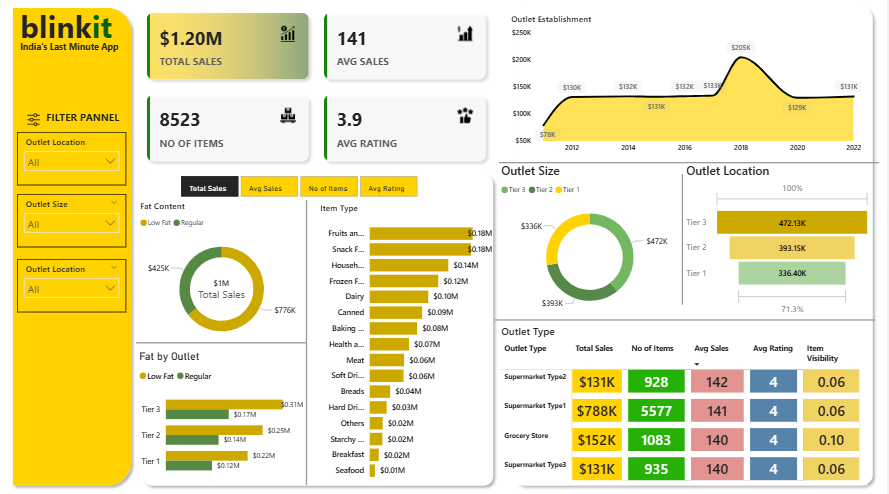

What the dashboard file says about the page in this screenshot:
{"tool":"powerbi","page":{"name":"Page 1","canvas":[1400,800],"ordinal":0},"visuals":[{"type":"shape","box":[13.8,13.8,204.6,770.8],"z":0},{"type":"textbox","box":[29.2,13.8,172.3,75.4],"z":1000},{"type":"textbox","box":[29.2,69.2,189.2,38.5],"z":2000},{"type":"cardVisual","fields":{"Data":["BlinkIT Grocery Data.Total Sales","BlinkIT Grocery Data.Avg Sales","BlinkIT Grocery Data.No of Items","BlinkIT Grocery Data.Avg Rating"]},"box":[217.5,14.3,569.8,269.8],"z":3000},{"type":"shape","box":[219,277.8,569.8,507.9],"z":4000},{"type":"donutChart","title":" Fat Content","fields":{"Y":["BlinkIT Grocery Data.Total Sales"],"Category":["BlinkIT Grocery Data.Item Fat Content"]},"box":[219.4,326.4,266.7,236.1],"z":5000},{"type":"cardVisual","fields":{"Data":["BlinkIT Grocery Data.Total Sales"]},"box":[284.7,419.4,134.7,94.4],"z":6000},{"type":"slicer","fields":{"Values":["BlinkIT Grocery Data.Outlet Location Type"]},"box":[29.8,219.3,171.9,84.2],"z":7000},{"type":"clusteredBarChart","title":"Fat by Outlet","fields":{"Y":["BlinkIT Grocery Data.Total Sales"],"Category":["BlinkIT Grocery Data.Outlet Location Type"],"Series":["BlinkIT Grocery Data.Item Fat Content"]},"box":[218.1,562.5,268.1,212.5],"z":8000},{"type":"shape","box":[218.1,513.9,268.1,75],"z":9000},{"type":"shape","box":[450,326.4,70.8,448.6],"z":10000},{"type":"barChart","title":"Item Type","fields":{"Y":["BlinkIT Grocery Data.Total Sales"],"Category":["BlinkIT Grocery Data.Item Type"]},"box":[501.9,328.8,280.8,448.1],"z":11000},{"type":"shape","box":[803.7,14.8,583.3,770.4],"z":12000},{"type":"lineChart","title":" Outlet Establishment ","fields":{"Category":["BlinkIT Grocery Data.Outlet Establishment Year"],"Y":["BlinkIT Grocery Data.Total Sales"]},"box":[803.7,31.5,561.1,229.6],"z":13000},{"type":"donutChart","title":"Outlet Size","fields":{"Y":["BlinkIT Grocery Data.Total Sales"],"Category":["BlinkIT Grocery Data.Outlet Location Type"]},"box":[787.7,266.7,289.5,247.4],"z":14000},{"type":"shape","box":[1043.1,284.3,70.6,205.9],"z":15000},{"type":"shape","box":[788.2,229.4,598,74.5],"z":16000},{"type":"funnel","title":" Outlet Location ","fields":{"Category":["BlinkIT Grocery Data.Outlet Location Type"],"Y":["Sum(BlinkIT Grocery Data.Sales)"]},"box":[1078.4,266.7,300,245.1],"z":17000},{"type":"shape","box":[782.5,477.2,598.2,75.4],"z":18000},{"type":"pivotTable","title":"Outlet Type","fields":{"Values":["BlinkIT Grocery Data.Total Sales","BlinkIT Grocery Data.No of Items","BlinkIT Grocery Data.Avg Sales","BlinkIT Grocery Data.Avg Rating","Avg(BlinkIT Grocery Data.Item Visibility)"],"Rows":["BlinkIT Grocery Data.Outlet Type"]},"box":[787.7,521.1,582.5,254.4],"z":19000},{"type":"slicer","fields":{"Values":["BlinkIT Grocery Data.Outlet Size"]},"box":[29.8,315.8,171.9,84.2],"z":20000},{"type":"slicer","fields":{"Values":["BlinkIT Grocery Data.Item Type"]},"box":[29.8,419.3,171.9,84.2],"z":21000},{"type":"advancedSlicerVisual","fields":{"Values":["Metrics.Metrics"]},"box":[284.2,284.2,386,42.1],"z":22000},{"type":"textbox","box":[70.9,179.5,146.5,39.4],"z":23000},{"type":"image","box":[40.9,179.5,29.9,39.4],"z":24000}]}

Visuals, with their boxes in screenshot pixels (x1, y1, x2, y2), scaled from the page's 1400x800 canvas onto the 889x494 screenshot:
shape: 9,9,139,484
textbox: 19,9,128,55
textbox: 19,43,139,67
cardVisual - BlinkIT Grocery Data.Total Sales x BlinkIT Grocery Data.Avg Sales: 138,9,500,175
shape: 139,172,501,485
" Fat Content" donutChart: 139,202,309,347
cardVisual - BlinkIT Grocery Data.Total Sales: 181,259,266,317
slicer - BlinkIT Grocery Data.Outlet Location Type: 19,135,128,187
"Fat by Outlet" clusteredBarChart: 138,347,309,479
shape: 138,317,309,364
shape: 286,202,331,479
"Item Type" barChart: 319,203,497,480
shape: 510,9,881,485
" Outlet Establishment " lineChart: 510,19,867,161
"Outlet Size" donutChart: 500,165,684,317
shape: 662,176,707,303
shape: 501,142,880,188
" Outlet Location " funnel: 685,165,875,316
shape: 497,295,877,341
"Outlet Type" pivotTable: 500,322,870,479
slicer - BlinkIT Grocery Data.Outlet Size: 19,195,128,247
slicer - BlinkIT Grocery Data.Item Type: 19,259,128,311
advancedSlicerVisual - Metrics.Metrics: 180,175,426,201
textbox: 45,111,138,135
image: 26,111,45,135
